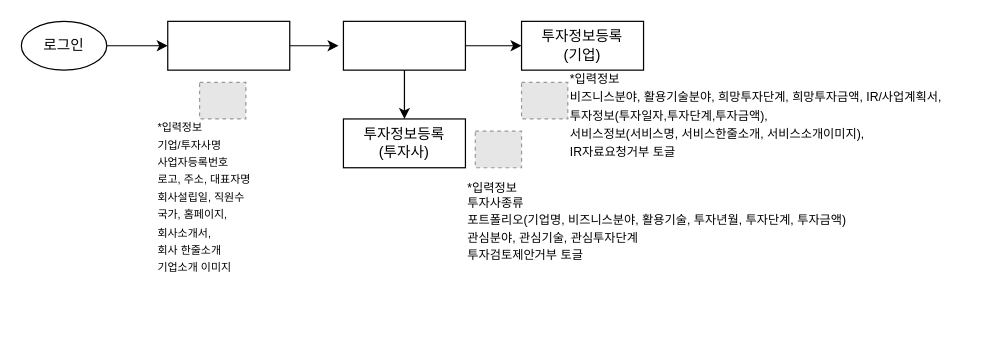
Some shapes in this 1004 by 360 pixel diagram are drawn without their labels. Grey dashed boxes stand in for pictures. The centre of each missing label's shape, as x and y in pixels:
"사용자선택" belongs at (x=403, y=45).
"추가정보등록" belongs at (x=228, y=45).
